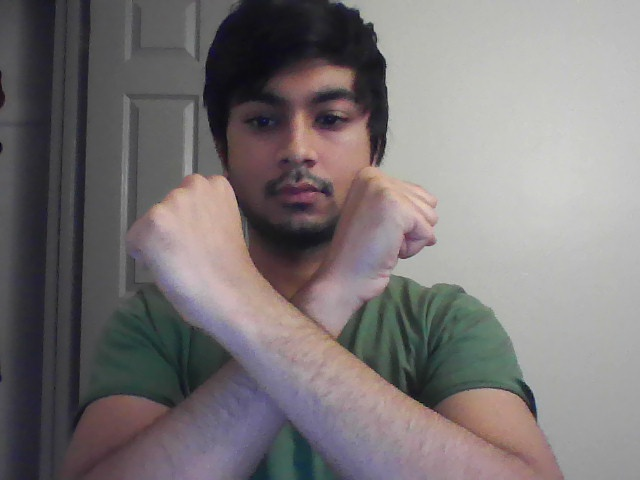cancel: (121, 166, 448, 358)
